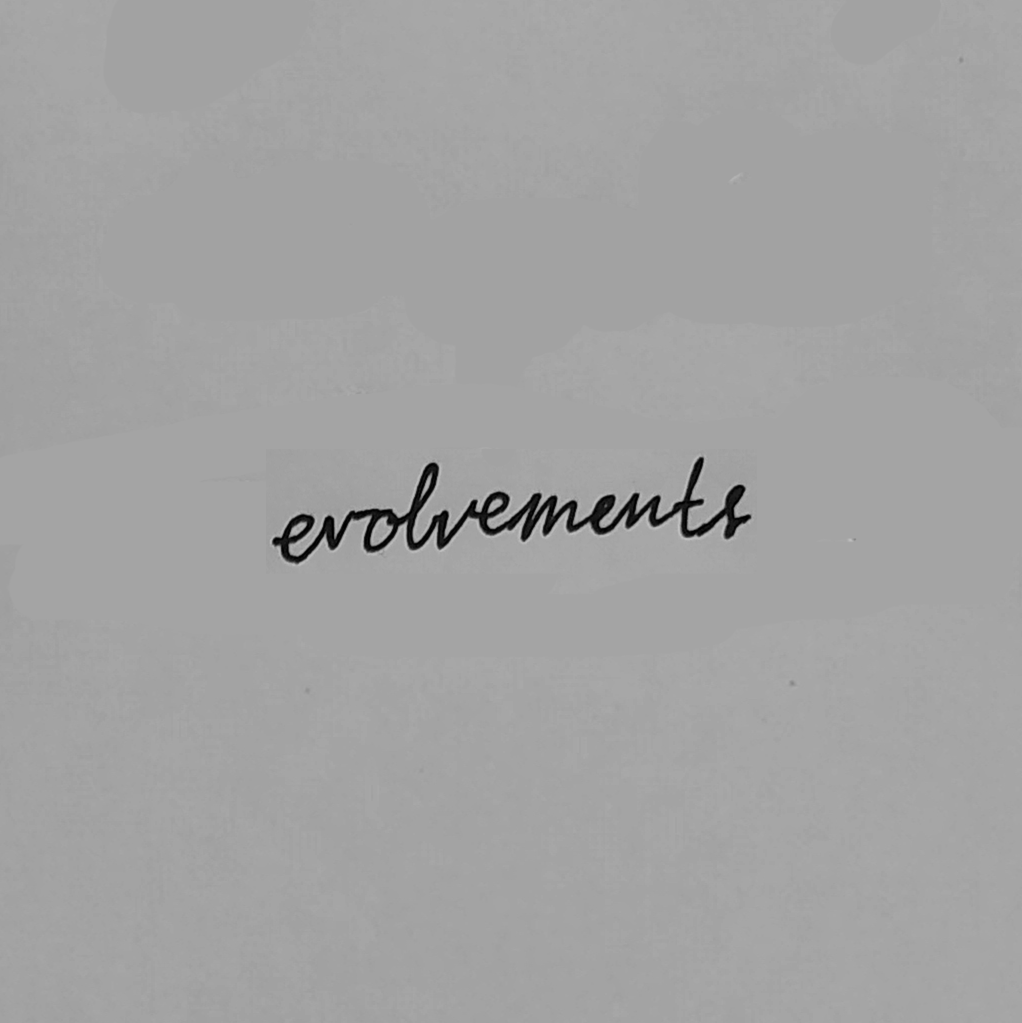e: (270, 510, 315, 565), (480, 488, 513, 538), (588, 491, 619, 537)
l: (403, 460, 441, 554)
m: (517, 488, 581, 543)
n: (622, 489, 663, 531)
o: (359, 504, 402, 554)
s: (719, 480, 755, 542)
t: (670, 454, 712, 540)
v: (432, 496, 479, 553), (317, 505, 357, 552)
